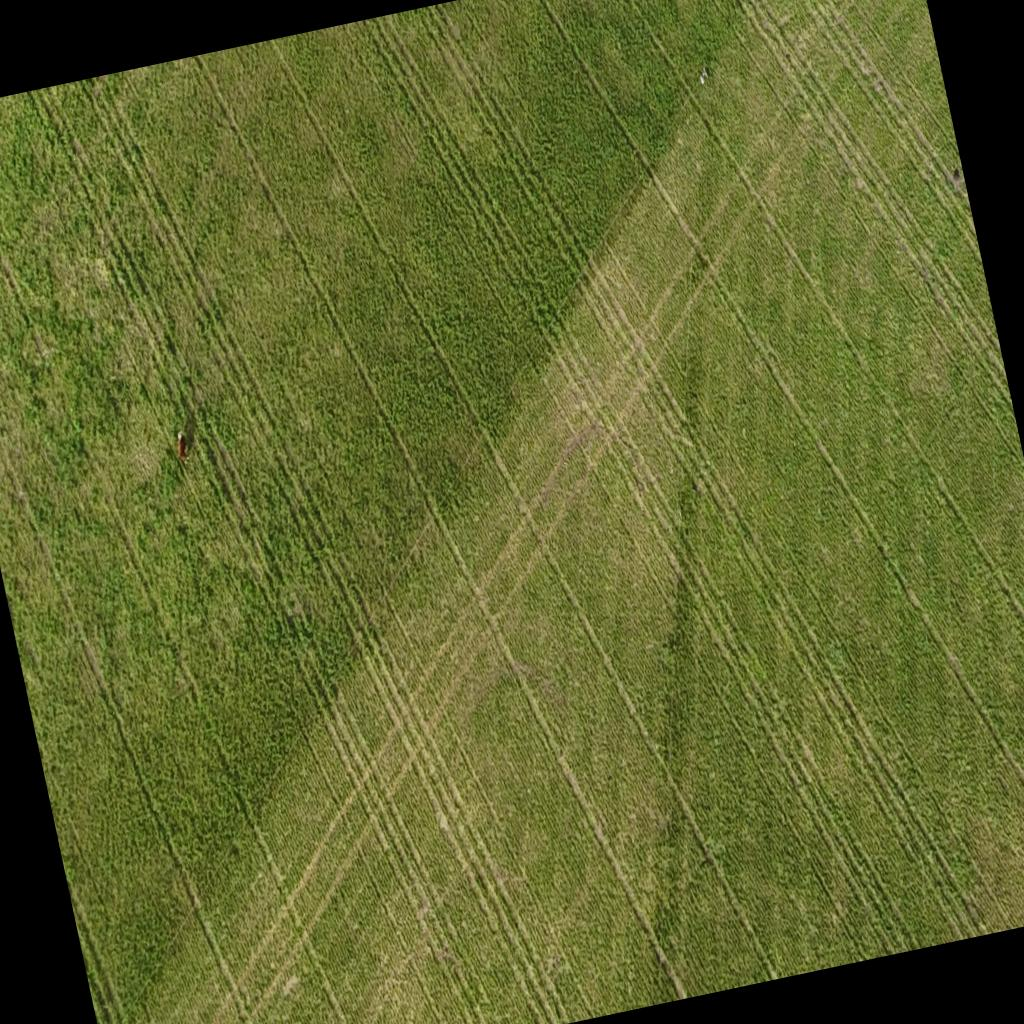cow: (172, 432, 194, 468)
